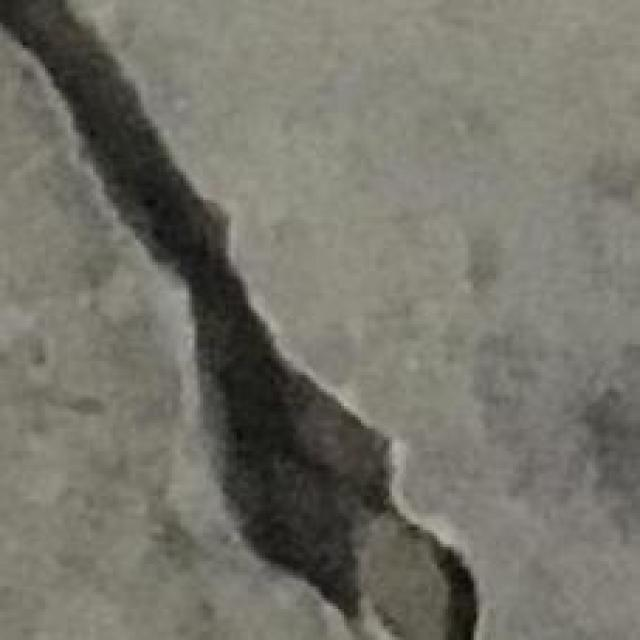Crack: (0, 0, 476, 637)
